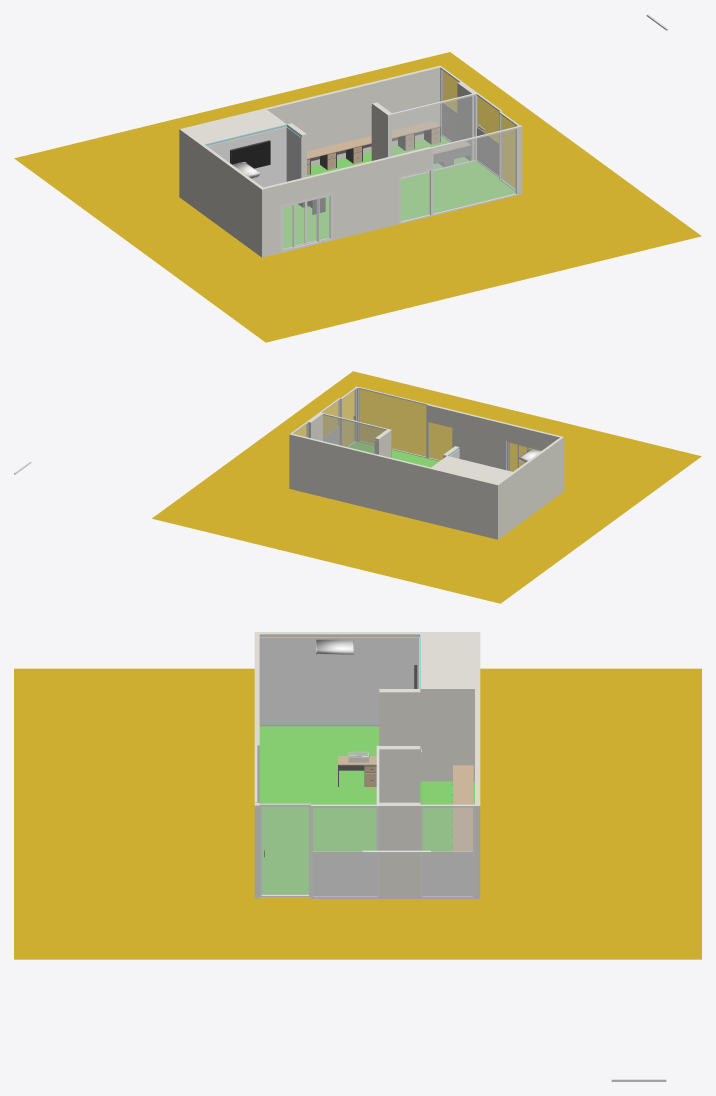
3 renders of one model, top to bottom at view 1: azimuth 30°, elevation 25°; view 2: azimuth 150°, elevation 25°; view 3: azimuth 270°, elevation 25°, orthographic. The views are drawn at different scales.
Visible parts, largest first — view 1: Plane, Wall_Top_Back, Plane.001, Front_Glass_Wall_Glass, Front_Solid_Wall, Wall_Left, Front_Glass_Wall_Glass.001, Solid_Block_TopLeft, Front_Sliding_Door_Glass, Cladding_Solid_Block_TopLeft_P2, Front_Door_Lintel, Front_Door_Pillar_L (+9 smaller); view 2: Plane, Wall_Top_Back, Solid_Block_TopLeft, Front_Glass_Wall_Glass, Wall_Left, Front_Solid_Wall, Front_Glass_Wall_Glass.001, Front_Door_Lintel, Front_Sliding_Door_Glass, Right_Sliding_Door_Glass, Plane.001, Front_Sliding_Door_Lintel (+1 smaller); view 3: Plane, Plane.001, Solid_Block_TopLeft, Right_Sliding_Door_Glass, Right_Solid_Pillar, Cladding_Wall_Left_P2, Cladding_Wall_Left_P1, Cladding_Wall_Left_P0, Right_Sliding_Door_SolidLower.001, Right_Sliding_Door_Glass.001, Pillar_1, Pillar_2 (+5 smaller).
Boxes of the visible parts, box(x1,y1,x2,y2) form: Plane: box(14, 52, 701, 342); Wall_Top_Back: box(265, 65, 441, 166); Plane.001: box(283, 135, 522, 248); Front_Glass_Wall_Glass: box(433, 129, 515, 213); Front_Solid_Wall: box(331, 155, 399, 240); Wall_Left: box(201, 144, 265, 257); Front_Glass_Wall_Glass.001: box(389, 96, 474, 177); Solid_Block_TopLeft: box(179, 108, 286, 212); Front_Sliding_Door_Glass: box(401, 171, 429, 221); Cladding_Solid_Block_TopLeft_P2: box(259, 127, 286, 187); Front_Door_Lintel: box(279, 171, 332, 205); Front_Door_Pillar_L: box(263, 184, 280, 256); Plane: box(152, 371, 701, 603); Wall_Top_Back: box(289, 433, 430, 522); Solid_Block_TopLeft: box(429, 456, 515, 539); Front_Glass_Wall_Glass: box(360, 389, 425, 456); Wall_Left: box(513, 436, 564, 526); Front_Solid_Wall: box(452, 410, 507, 470); Front_Glass_Wall_Glass.001: box(323, 415, 385, 453); Front_Door_Lintel: box(506, 423, 548, 449); Front_Sliding_Door_Glass: box(429, 422, 451, 460); Right_Sliding_Door_Glass: box(342, 390, 355, 446); Plane.001: box(347, 442, 438, 467); Front_Sliding_Door_Lintel: box(426, 404, 453, 427); Plane: box(14, 668, 701, 959); Plane.001: box(255, 726, 474, 897); Solid_Block_TopLeft: box(420, 632, 480, 781); Right_Sliding_Door_Glass: box(262, 807, 308, 894); Right_Solid_Pillar: box(379, 802, 420, 898); Cladding_Wall_Left_P2: box(337, 637, 378, 724); Cladding_Wall_Left_P1: box(296, 637, 337, 724); Cladding_Wall_Left_P0: box(260, 637, 295, 724); Right_Sliding_Door_SolidLower.001: box(313, 851, 377, 896); Right_Sliding_Door_Glass.001: box(313, 808, 376, 851); Pillar_1: box(379, 689, 420, 745); Pillar_2: box(379, 746, 420, 802).
Size of the model in its own units: 28.67 by 3 by 20.12.
